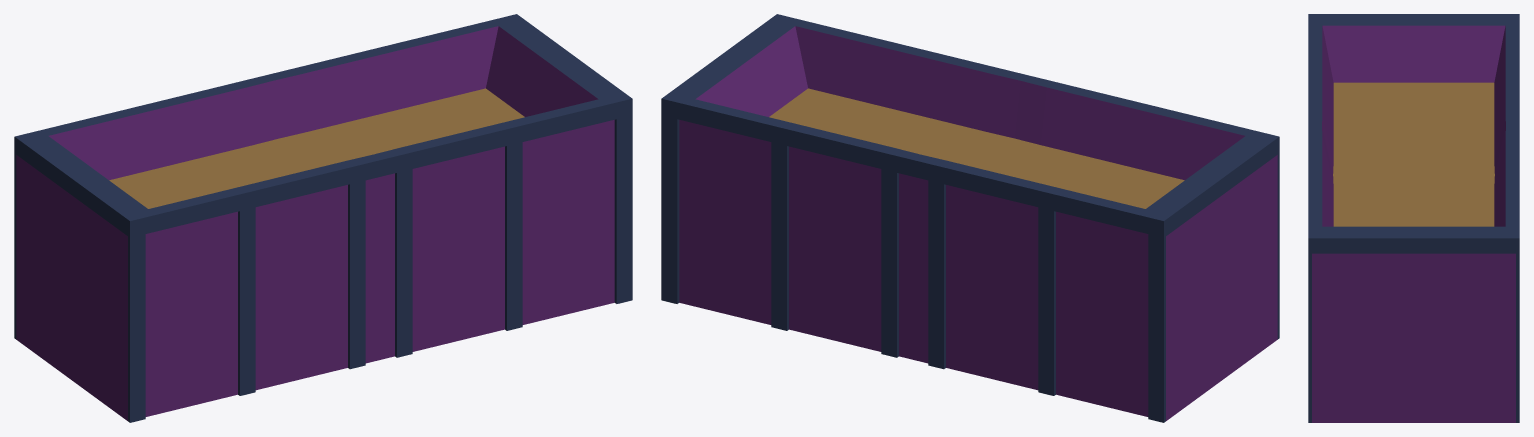
The model's file is LCargoModel06.fbx.
The picture shows the model from 3 angles, left to right: view 1: azimuth 30°, elevation 25°; view 2: azimuth 150°, elevation 25°; view 3: azimuth 270°, elevation 25°; orthographic projection. The views are drawn at different scales.
Parts seen in each view (by area): view 1: LCargoModel06; view 2: LCargoModel06; view 3: LCargoModel06.
Boxes of the visible parts, x1,y1,x2,y2 form: LCargoModel06: (14,14,632,422); LCargoModel06: (661,14,1279,422); LCargoModel06: (1308,14,1519,422).
Bounding box in the file's own units: 731 × 280 × 291.
